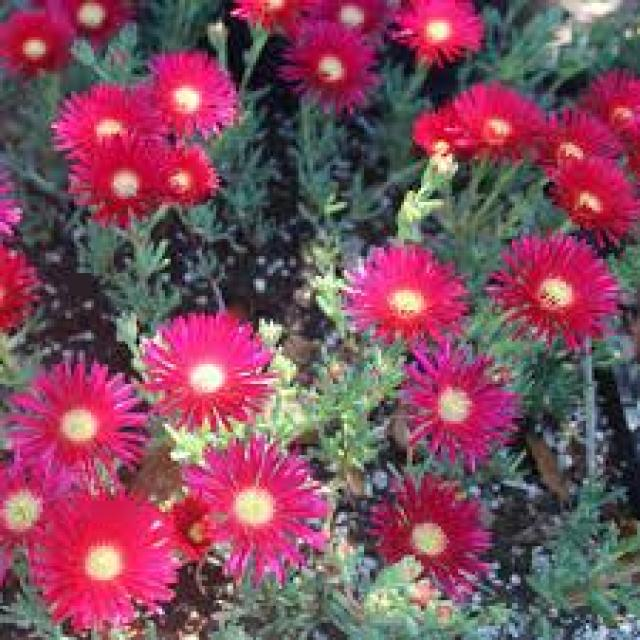organic waste: (28, 497, 196, 628), (130, 302, 274, 432), (7, 353, 147, 486), (176, 445, 324, 562), (357, 244, 468, 336), (375, 487, 475, 583), (412, 368, 520, 456), (138, 54, 240, 145), (3, 457, 85, 568), (53, 84, 164, 163), (81, 140, 175, 228), (284, 23, 376, 108), (525, 246, 599, 343), (510, 109, 616, 175), (465, 75, 536, 155), (396, 6, 490, 65), (552, 169, 628, 235), (575, 73, 637, 152), (7, 20, 75, 68), (154, 152, 216, 204), (64, 4, 132, 38)
